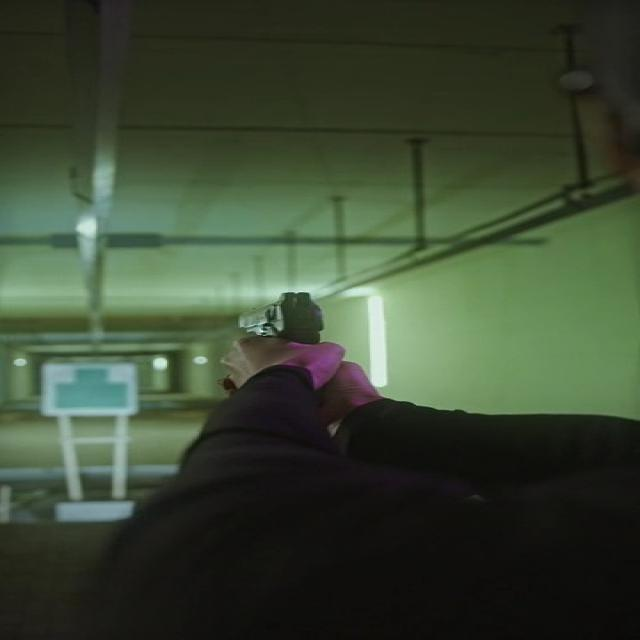Gun_Holder: (176, 286, 427, 446)
